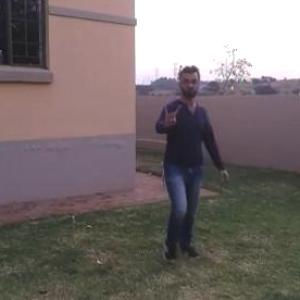takeoff-hand: (156, 97, 184, 134)
